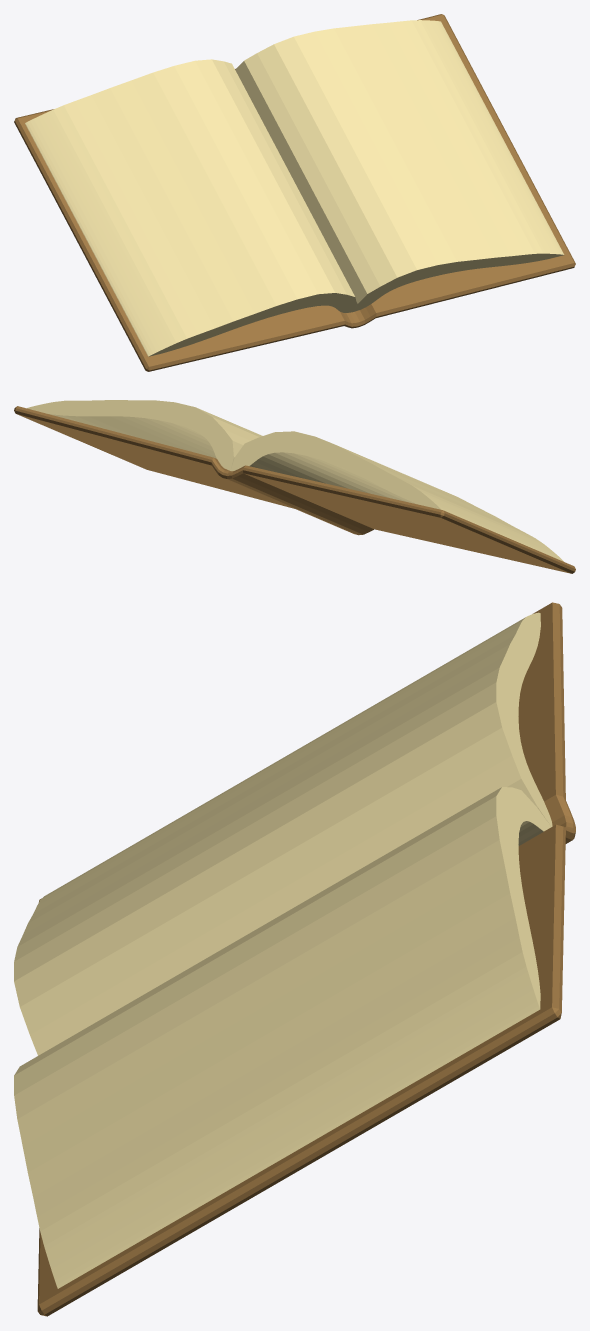
File: libro.fbx
3 views of the same model, one above another, from view 1: azimuth 30°, elevation 25°; view 2: azimuth 150°, elevation 25°; view 3: azimuth 270°, elevation 25° (orthographic). The views are drawn at different scales.
Visible parts, largest first — view 1: libro; view 2: libro; view 3: libro.
Boxes of the visible parts, bbox=[...] form: libro: bbox=[14, 14, 575, 371]; libro: bbox=[14, 400, 575, 573]; libro: bbox=[14, 602, 575, 1316].
Bounding box in the file's own units: 85.01 × 37.2 × 49.27.
